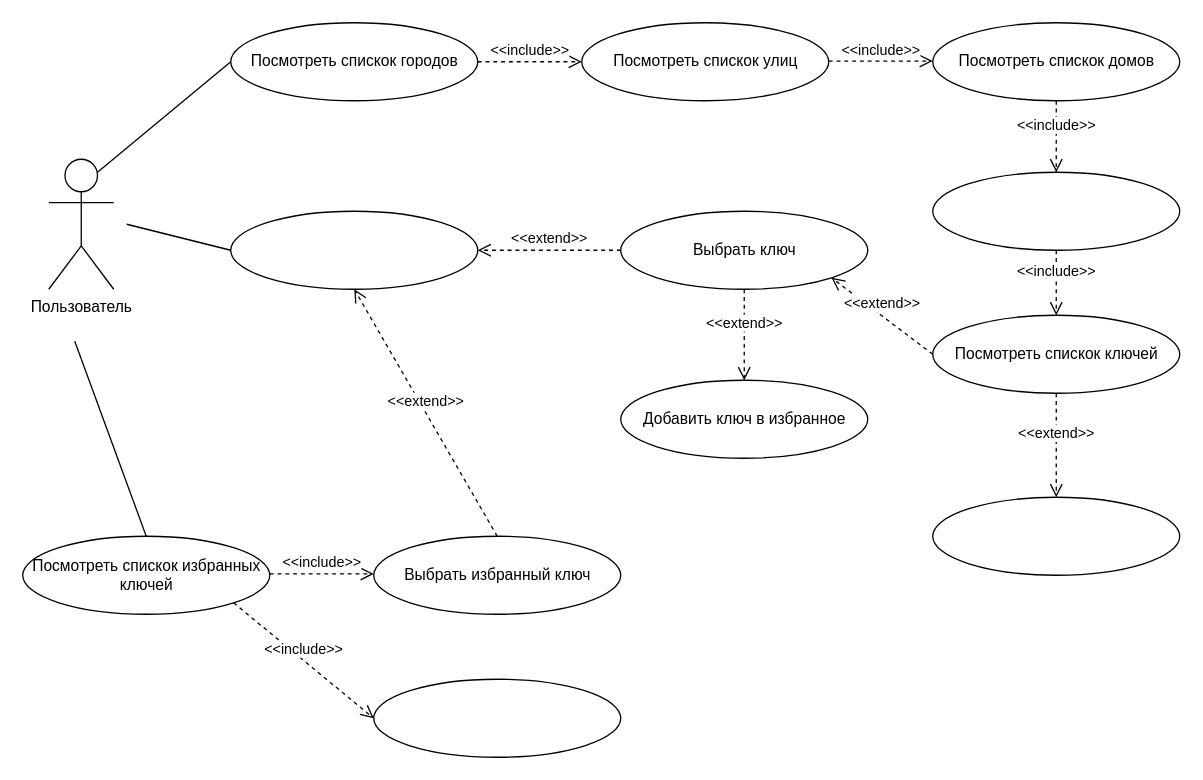
Some shapes in this 1203 by 780 pixel diagram are drawn without their labels. Here are the shapes that lost their labels. From the top down, the centre of each, then its label:
At point 1055,210: "Посмотреть спискок подъездов".
At point 353,249: "Считать ключ".
At point 1055,535: "Добавить ключ в базу даннных".
At point 496,717: "Очистить список".
